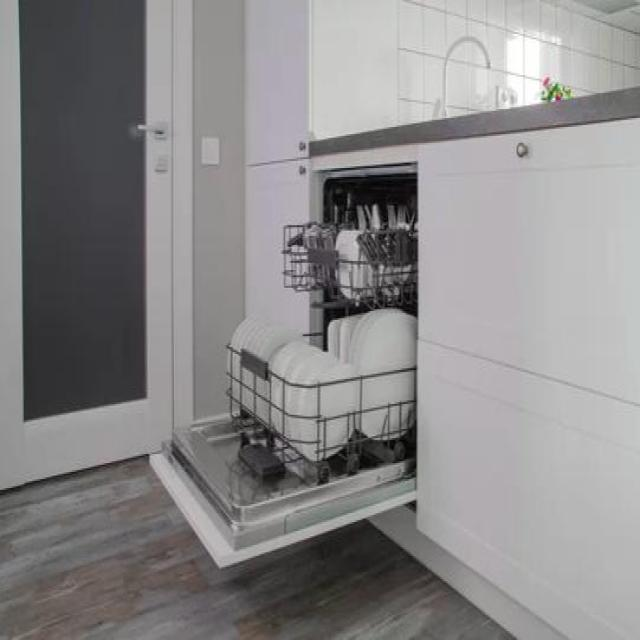dishwasher: (147, 150, 427, 576)
